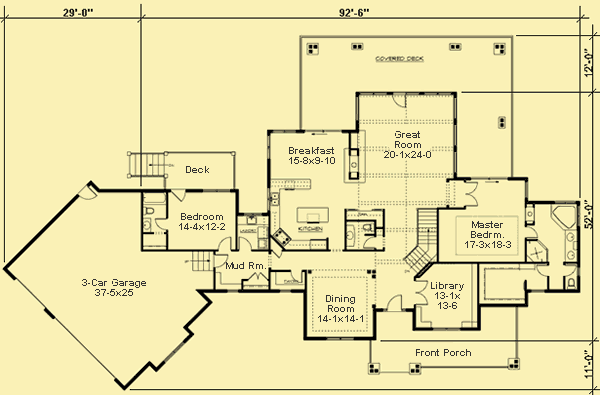door: (462, 179, 479, 210), (413, 279, 430, 308), (391, 90, 411, 111), (384, 293, 404, 313), (77, 185, 98, 203), (289, 267, 307, 286), (168, 187, 189, 203), (236, 233, 252, 253), (560, 262, 578, 278), (215, 236, 234, 251), (214, 252, 231, 268), (362, 235, 379, 251), (534, 261, 550, 278), (152, 216, 169, 231), (526, 223, 541, 240), (245, 272, 267, 283)
large sink: (361, 220, 377, 233), (141, 204, 155, 218), (566, 276, 579, 289)
small sink: (565, 228, 579, 263), (141, 216, 152, 233)
stairs: (404, 204, 444, 274), (124, 148, 174, 180), (186, 251, 213, 272)
twin sink: (271, 190, 280, 207)
windows: (430, 324, 467, 333), (322, 334, 356, 343), (264, 133, 274, 163), (273, 128, 300, 138)
